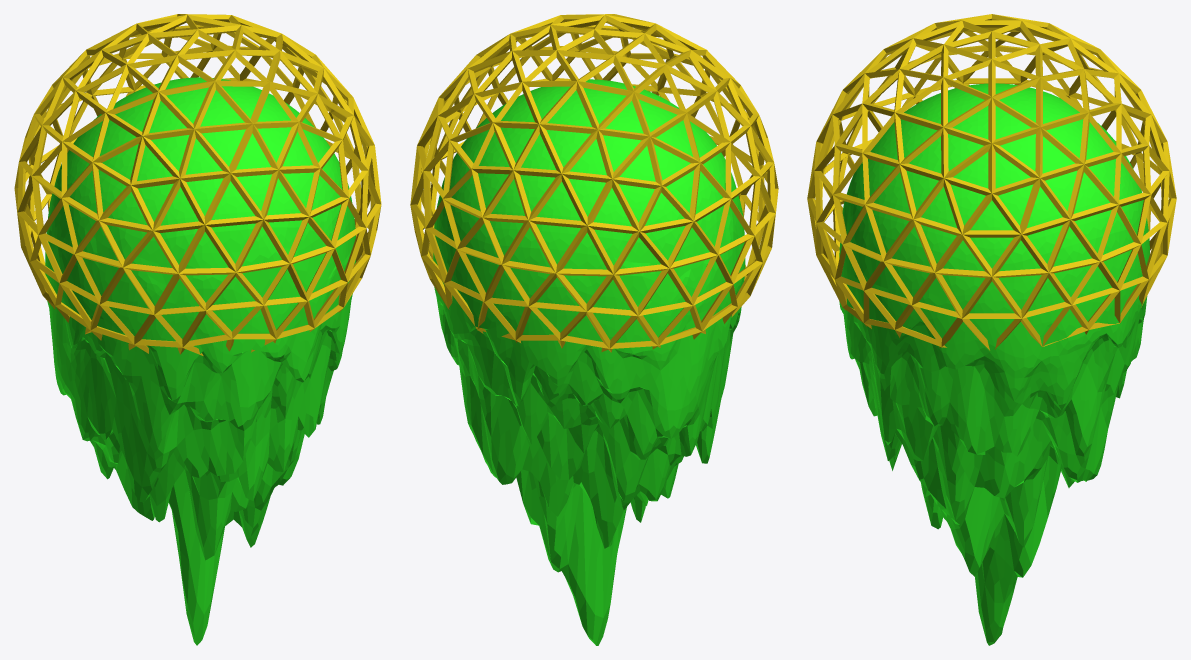
The model's file is GreenSlimeAttack.fbx.
The picture shows the model from 3 angles, left to right: view 1: azimuth 30°, elevation 25°; view 2: azimuth 150°, elevation 25°; view 3: azimuth 270°, elevation 25°; orthographic projection.
Parts seen in each view (by area): view 1: Icosphere, Icosphere.001; view 2: Icosphere, Icosphere.001; view 3: Icosphere, Icosphere.001.
Boxes of the visible parts, x1=… form: Icosphere: x1=45, y1=77, x2=355, y2=645; Icosphere.001: x1=14, y1=14, x2=381, y2=355; Icosphere: x1=433, y1=79, x2=745, y2=645; Icosphere.001: x1=410, y1=14, x2=778, y2=352; Icosphere: x1=839, y1=83, x2=1149, y2=645; Icosphere.001: x1=807, y1=14, x2=1176, y2=350.
Bounding box in the file's own units: 118 × 218 × 118.
